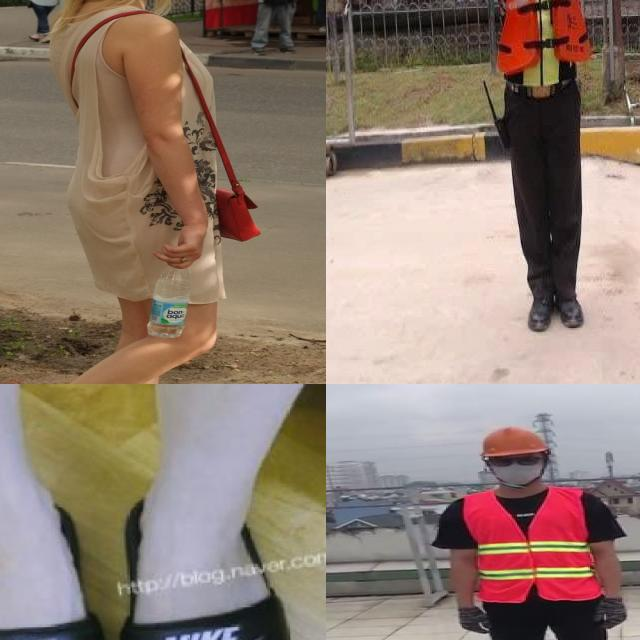Sandals: (0, 458, 116, 640)
boots: (526, 289, 555, 339), (556, 288, 585, 332)
glasses: (486, 453, 547, 469)
hand_glove: (453, 607, 492, 636), (596, 597, 628, 632)
head_helmet: (478, 426, 551, 458)
person: (437, 0, 635, 341)
vest: (464, 487, 604, 602), (498, 0, 590, 93)
